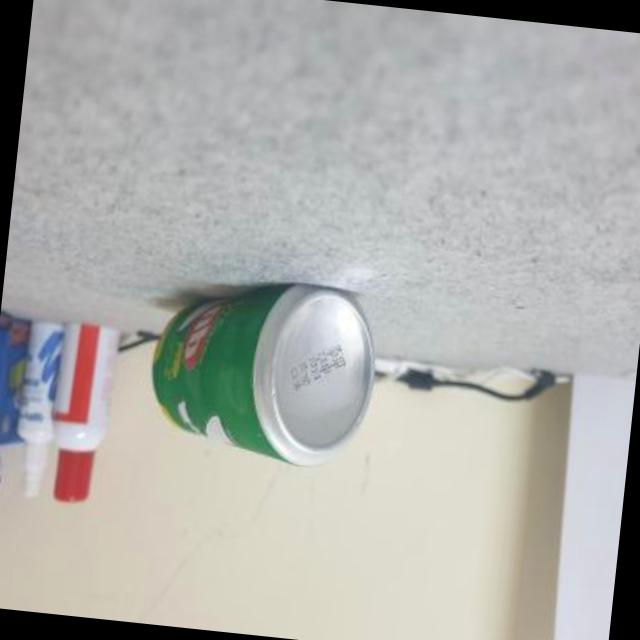metal: (149, 287, 369, 466)
